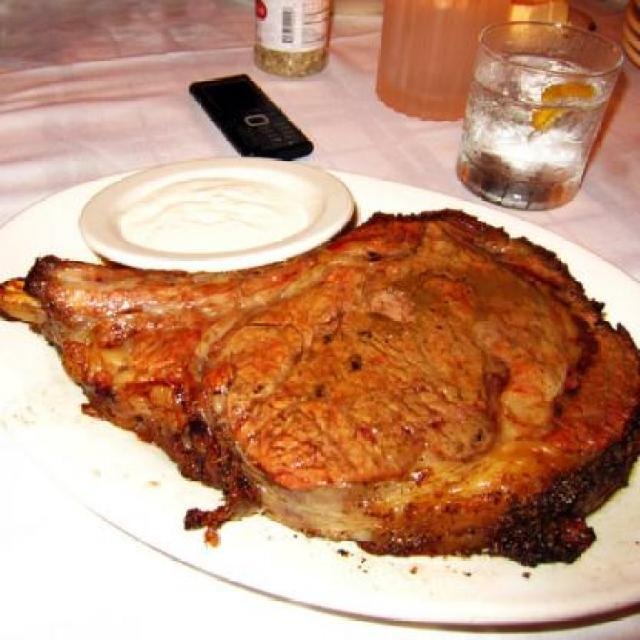Steak: (29, 218, 634, 580)
